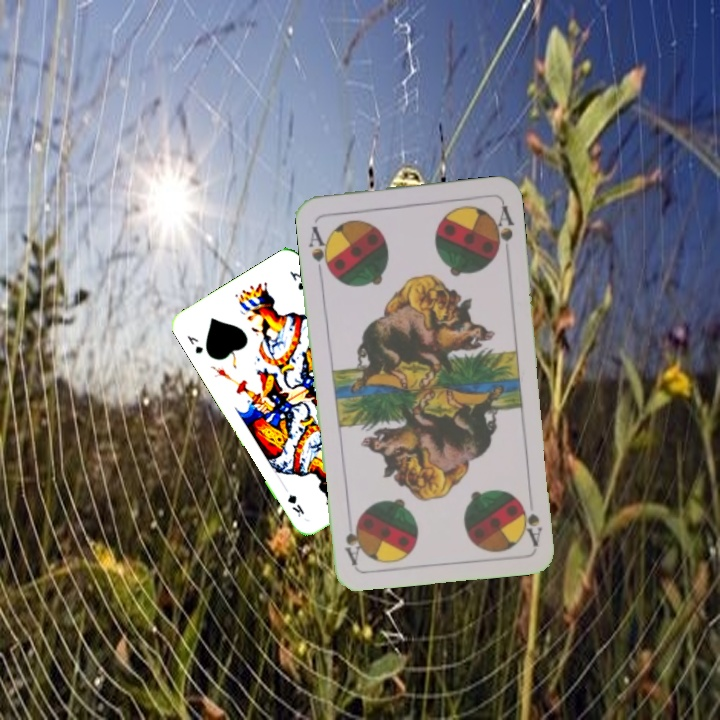GK: (183, 331, 206, 356)
SA: (304, 221, 334, 277), (516, 495, 545, 548)
